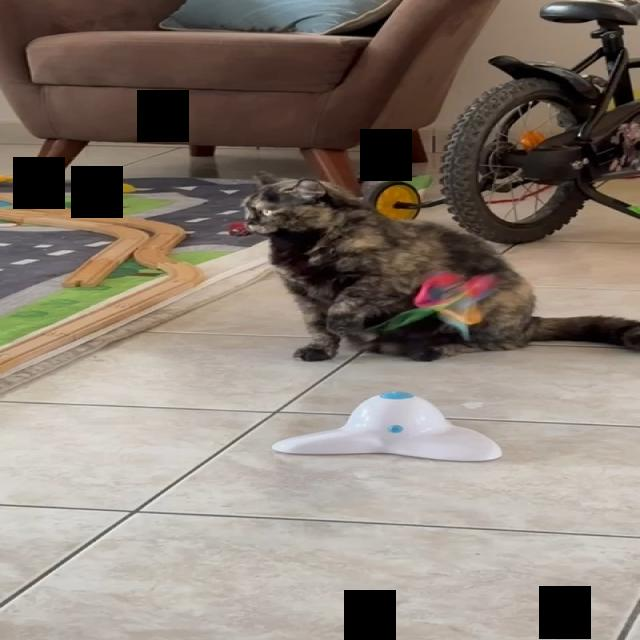authorized: (238, 170, 638, 362)
